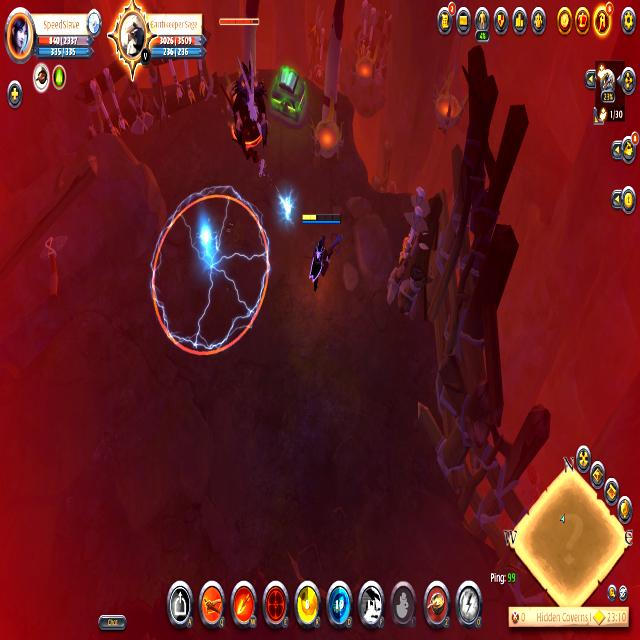ore: (217, 17, 269, 157)
red: (296, 208, 344, 298)
silver: (150, 186, 270, 354)
